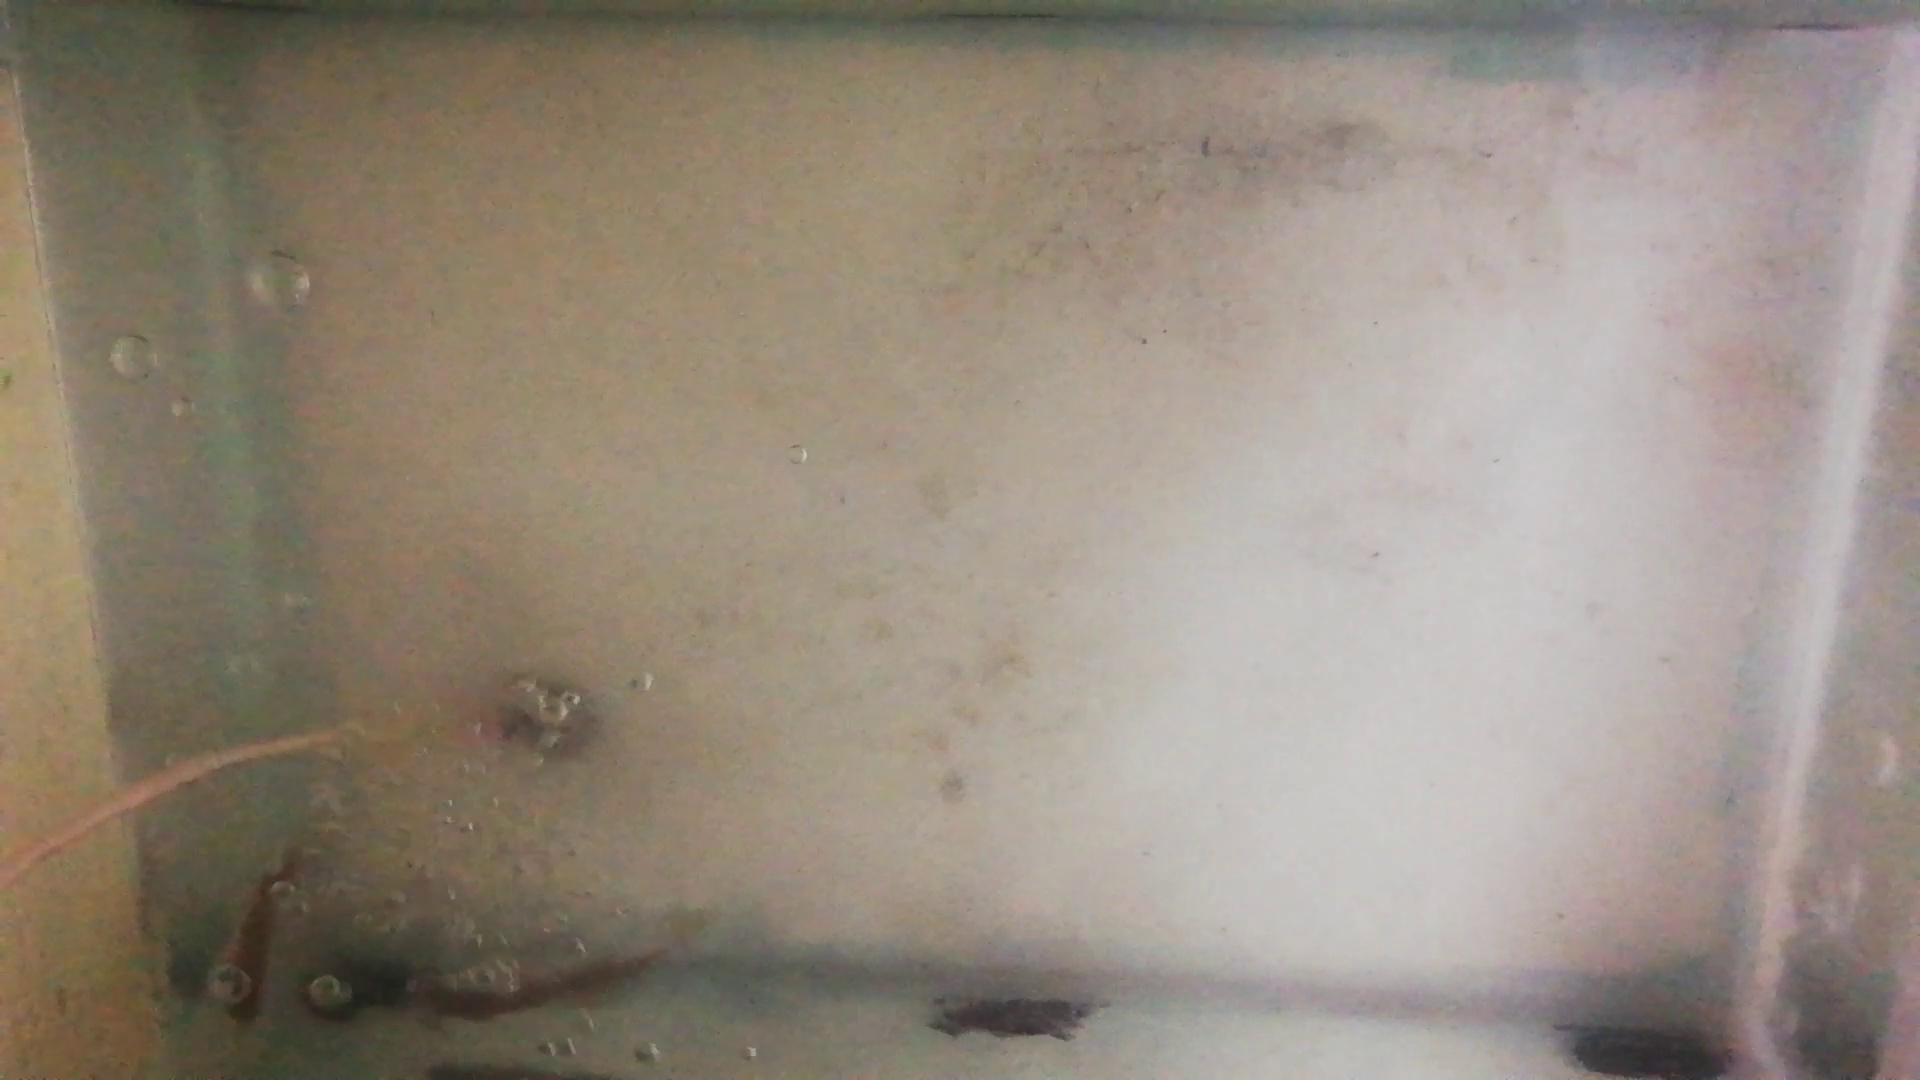fish: (436, 949, 655, 1023), (219, 853, 309, 1021)
